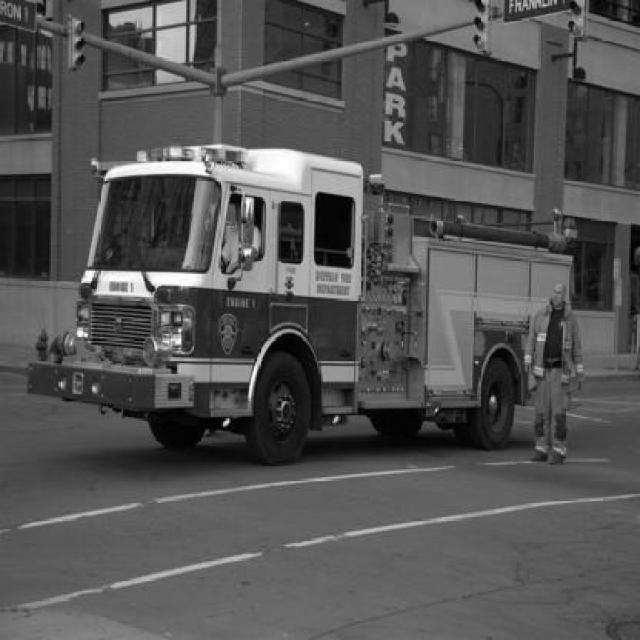Fire Truck: (25, 145, 579, 468)
